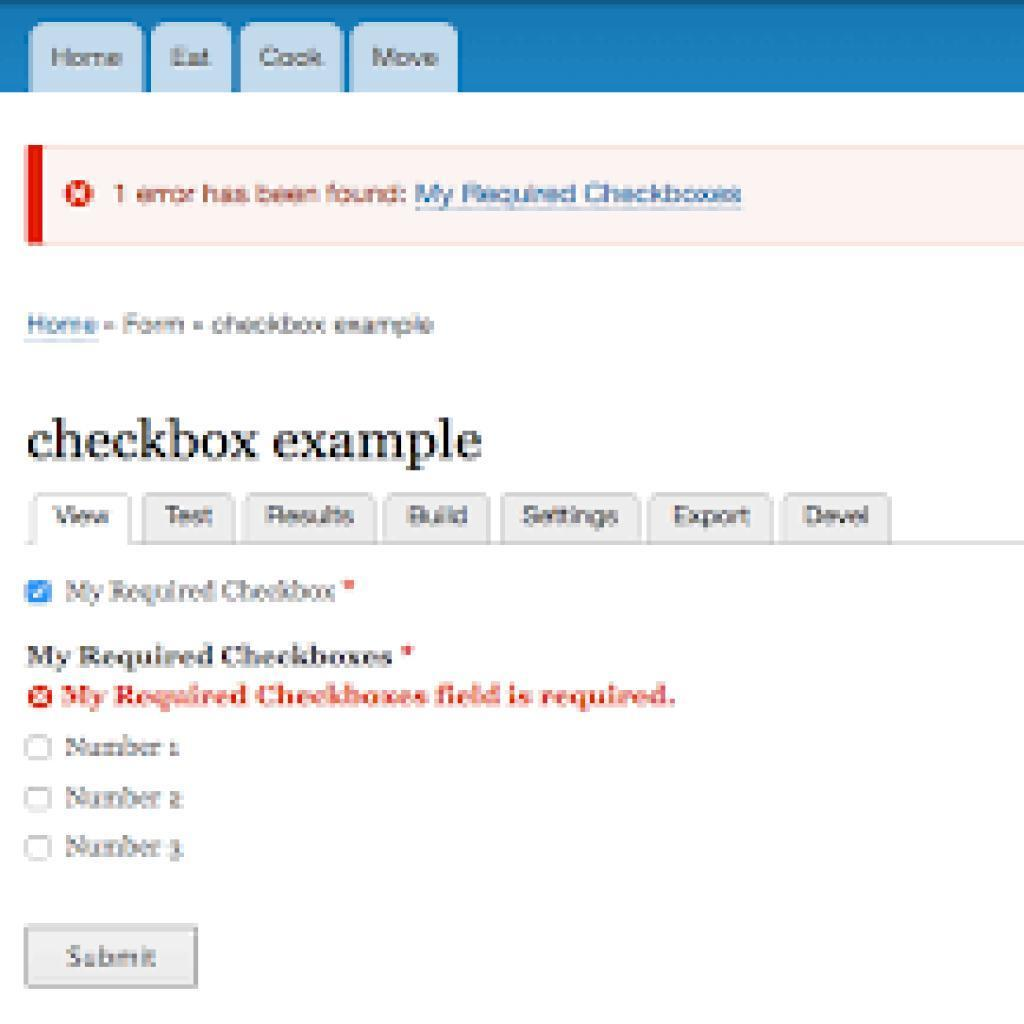button: (27, 925, 195, 987), (505, 493, 641, 542), (648, 493, 773, 543), (245, 495, 380, 541), (783, 496, 892, 545), (386, 495, 492, 543), (145, 498, 237, 543)
checkbox: (20, 575, 65, 611)
radio: (19, 782, 60, 817), (20, 730, 56, 764), (19, 832, 53, 868)
